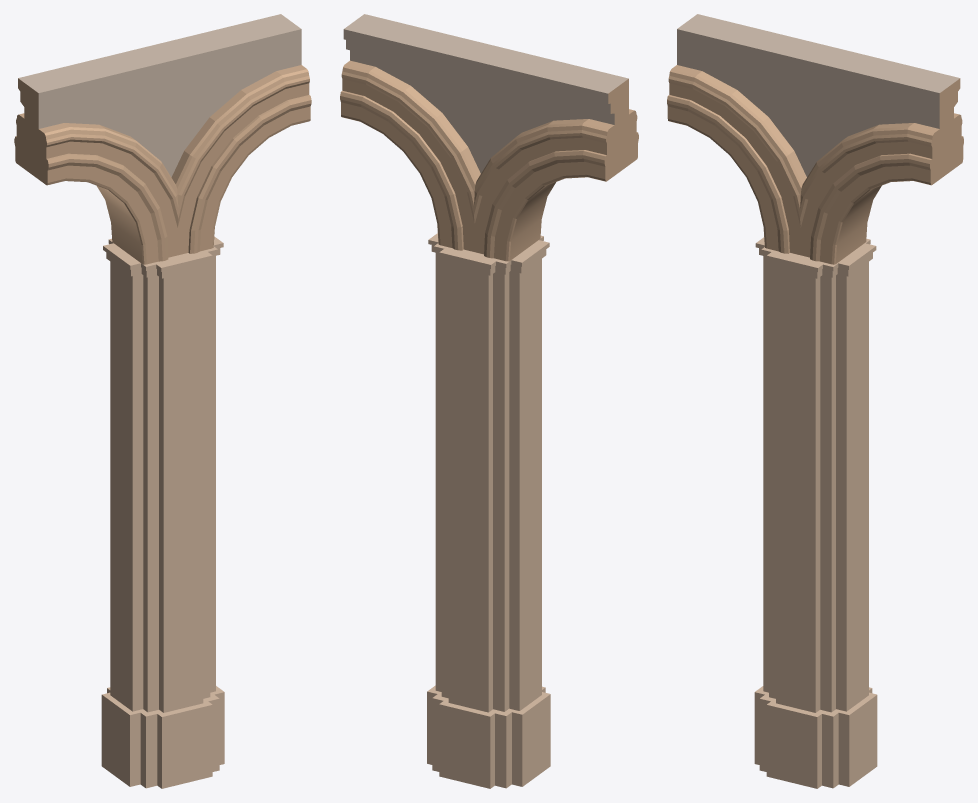
Rendered from BC_ArcPillar_A.fbx.
3 renders of one model, left to right at view 1: azimuth 30°, elevation 25°; view 2: azimuth 150°, elevation 25°; view 3: azimuth 330°, elevation 25°, orthographic.
Visible parts, largest first — view 1: BC_ArcPillar_A; view 2: BC_ArcPillar_A; view 3: BC_ArcPillar_A.
Boxes of the visible parts, x1=… form: BC_ArcPillar_A: x1=14, y1=14, x2=311, y2=788; BC_ArcPillar_A: x1=340, y1=14, x2=638, y2=788; BC_ArcPillar_A: x1=667, y1=14, x2=963, y2=788.
Bounding box in the file's own units: 642 × 1654 × 203.
